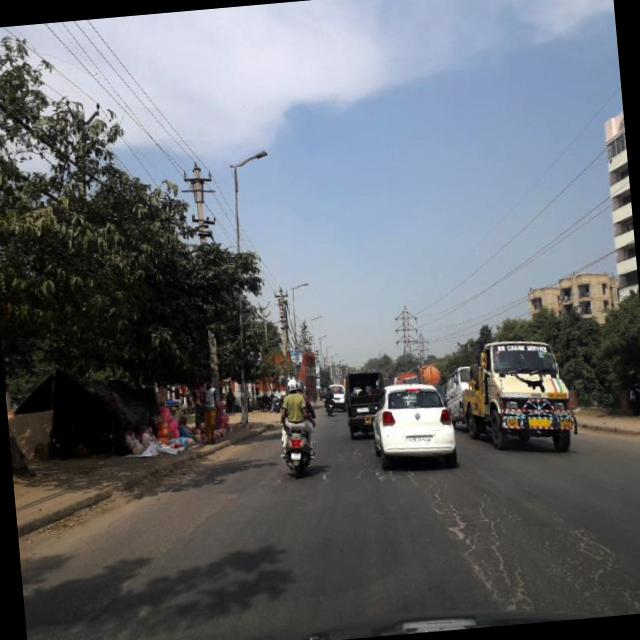crack: (429, 480, 544, 620)
